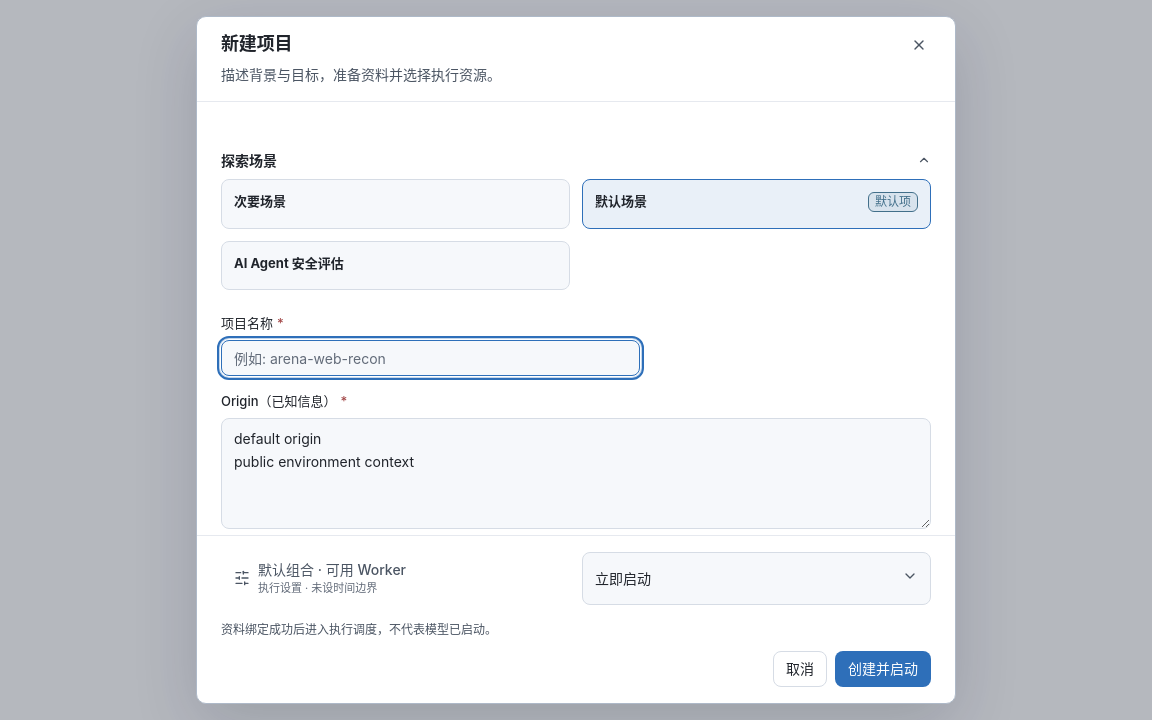
Test: NewProject creation boundaries › keeps the original unknown payload when optional cache writes fail
Type "缓存不可用" into the field with id "np-title" at point(430, 358), box [221, 340, 640, 376]
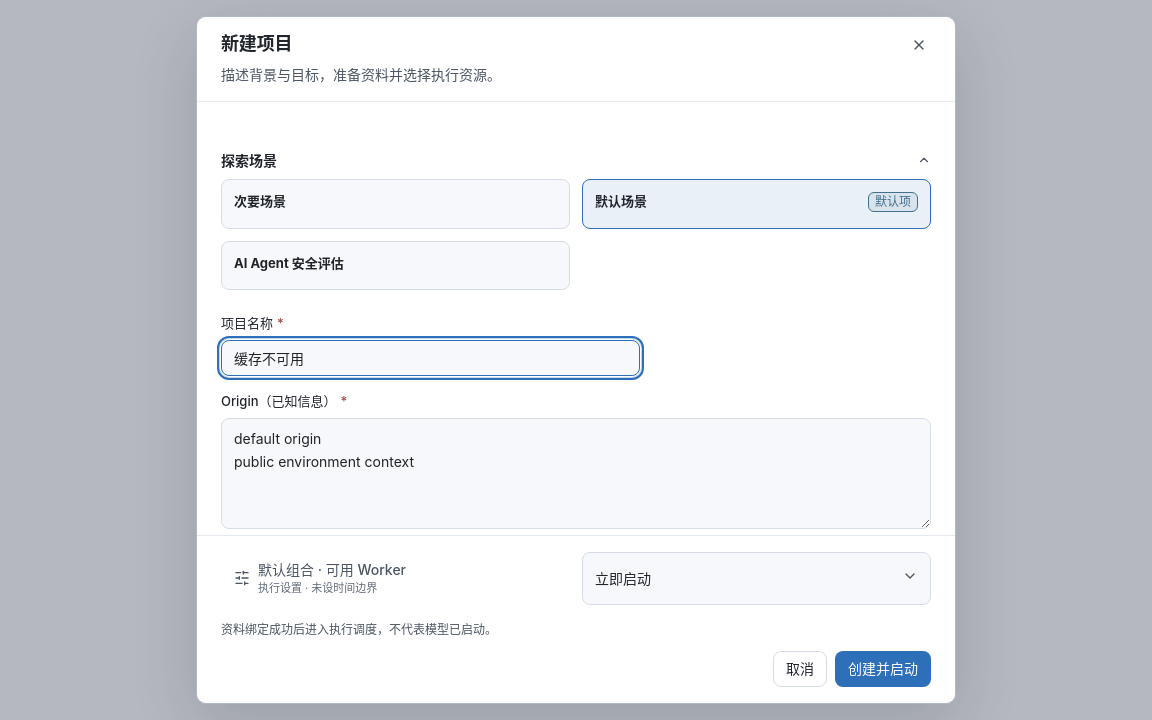
Click the button "创建并启动" at point(883, 669), box [835, 651, 931, 687]
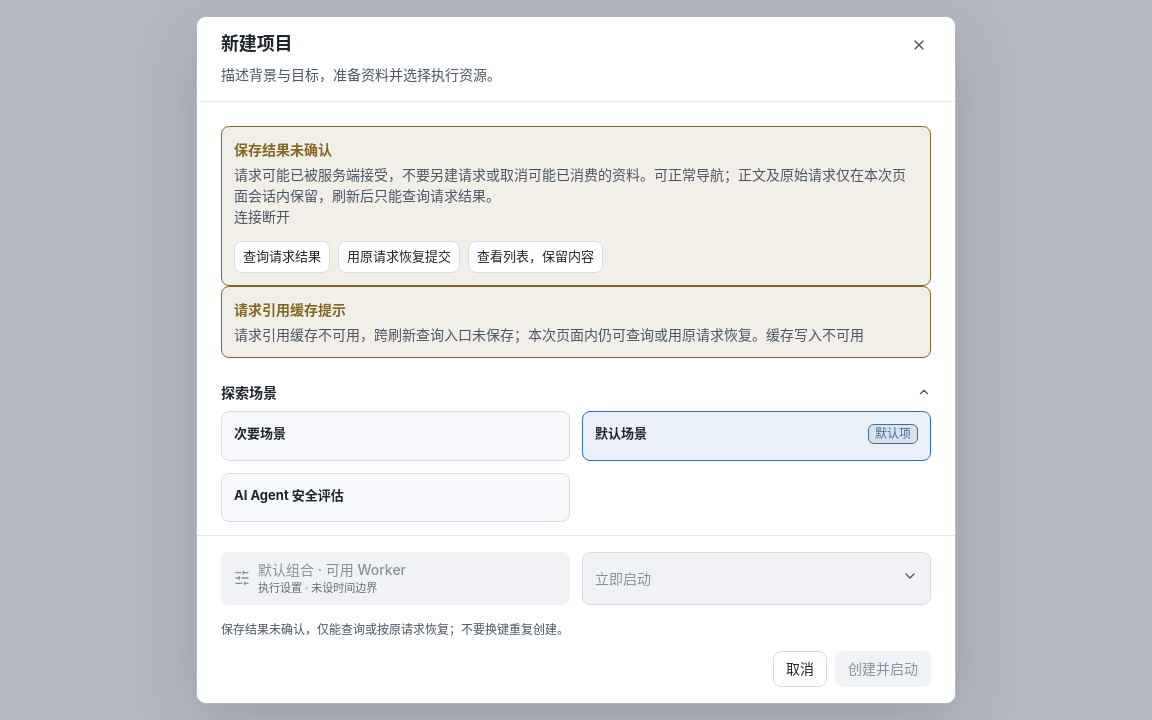
Result: the text "跨刷新查询入口未保存" is shown at [234, 326, 864, 342]
Result: the text "连接断开" is shown at [234, 208, 290, 224]
Result: the button "用原请求恢复提交" is enabled
Click the button "用原请求恢复提交" at point(399, 256), box [338, 240, 460, 272]
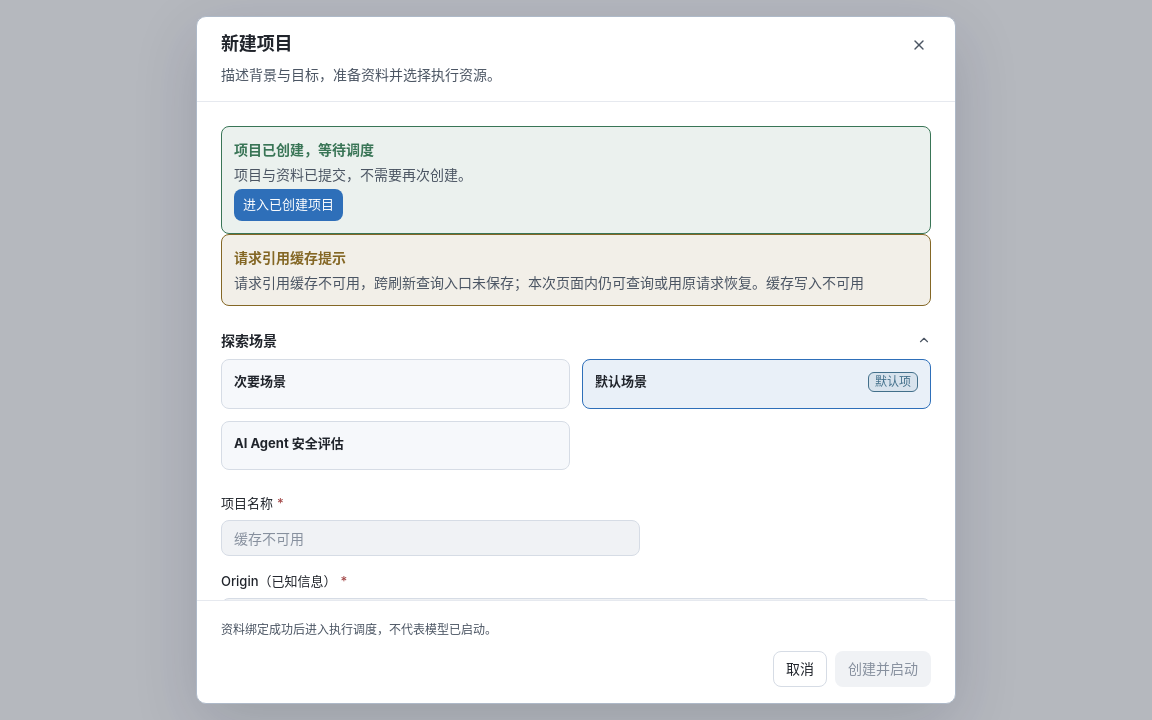
Result: the text "项目已创建，等待调度" is shown at [234, 140, 374, 158]
Result: the text "保存结果未确认" is gone
